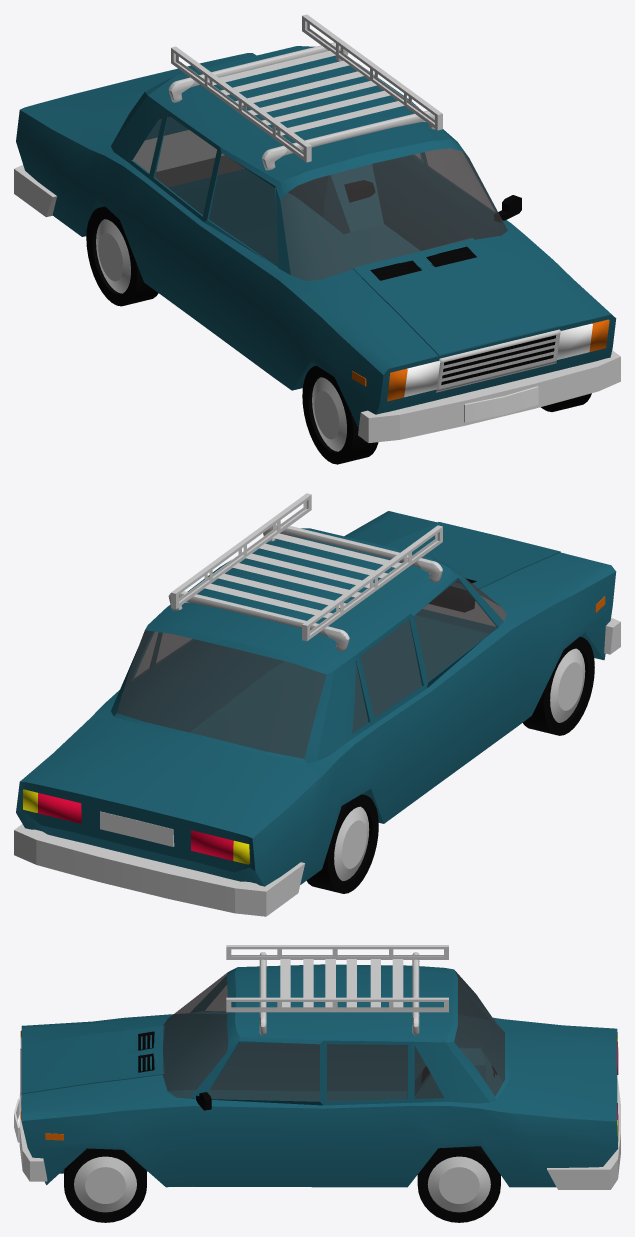
3 renders of one model, top to bottom at view 1: azimuth 30°, elevation 25°; view 2: azimuth 150°, elevation 25°; view 3: azimuth 270°, elevation 25°, orthographic. The views are drawn at different scales.
Visible parts, largest first — view 1: body, up, bumper front, bumper back, wheels front right, radiator net, wheels back right, up 2, lights front, number, net; view 2: body, up, bumper back, wheels back right, wheels front right, up 2, lights back, number.001, bumper front, net; view 3: body, up, wheels back left, wheels front left, bumper back, up 2, bumper front, net.
Part boxes in pixels (box(x1,y1,x2,y2)): body: box(16, 46, 616, 441); up: box(171, 14, 442, 162); bumper front: box(358, 350, 620, 442); bumper back: box(14, 130, 244, 217); wheels front right: box(302, 365, 378, 464); radiator net: box(436, 329, 560, 392); wheels back right: box(86, 206, 158, 306); up 2: box(168, 42, 435, 170); lights front: box(387, 319, 609, 401); number: box(464, 386, 538, 422); net: box(370, 246, 476, 280); body: box(16, 511, 616, 886); up: box(171, 493, 442, 641); bumper back: box(14, 824, 304, 916); wheels back right: box(307, 794, 378, 893); wheels front right: box(523, 636, 594, 735); up 2: box(168, 523, 442, 651); lights back: box(23, 789, 250, 864); number.001: box(100, 811, 174, 846); bumper front: box(423, 596, 620, 654); net: box(429, 578, 476, 612); body: box(21, 964, 618, 1187); up: box(226, 945, 448, 1012); wheels back left: box(417, 1146, 500, 1222); wheels front left: box(64, 1148, 146, 1222); bumper back: box(547, 1079, 620, 1189); up 2: box(259, 952, 419, 1035); bumper front: box(19, 1092, 47, 1181); net: box(138, 1031, 154, 1072).
Size of the model in its own units: 136 by 124 by 336.
